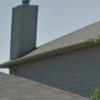Chimney: (6, 2, 41, 59)
